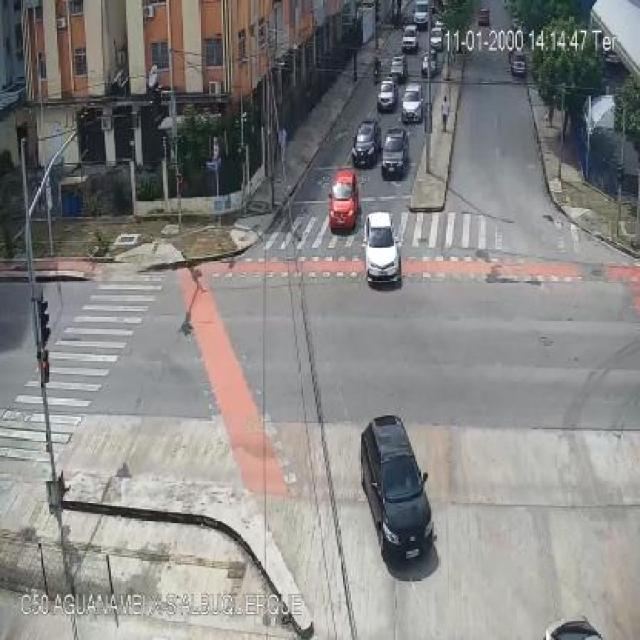Car: (360, 414, 436, 567), (364, 212, 400, 284), (327, 169, 360, 232), (380, 128, 410, 178), (352, 119, 381, 168), (402, 84, 424, 122), (376, 78, 396, 110), (390, 54, 410, 80), (401, 25, 419, 50), (421, 48, 438, 74), (510, 51, 528, 75), (429, 28, 446, 50), (476, 7, 492, 25)
Van: (412, 0, 431, 28)
